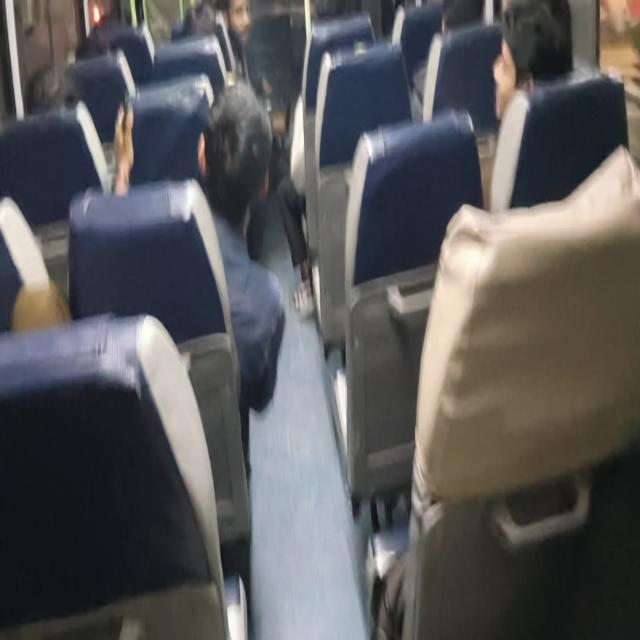person: (111, 80, 286, 482), (196, 82, 286, 415), (491, 0, 573, 125), (221, 0, 273, 101)
